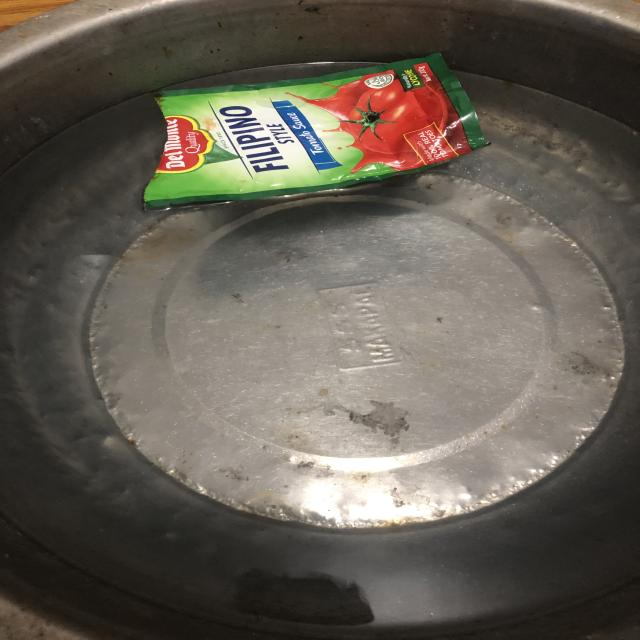Plastic Pouch: (100, 33, 510, 240)
